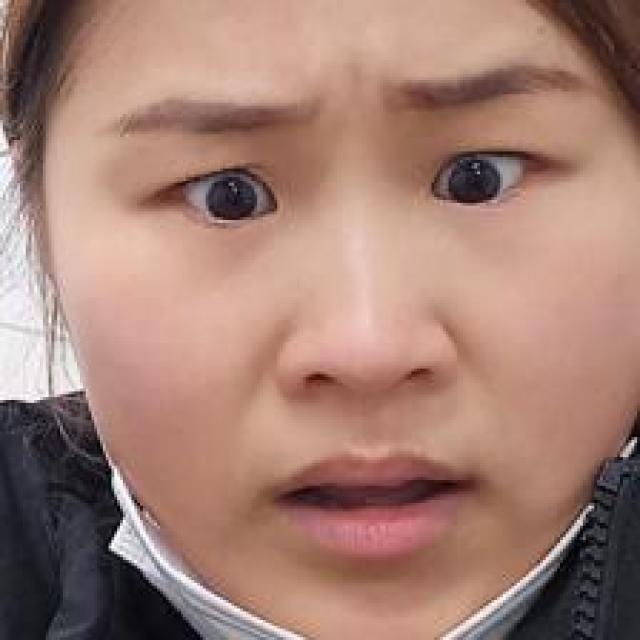fear: (74, 66, 617, 598)
